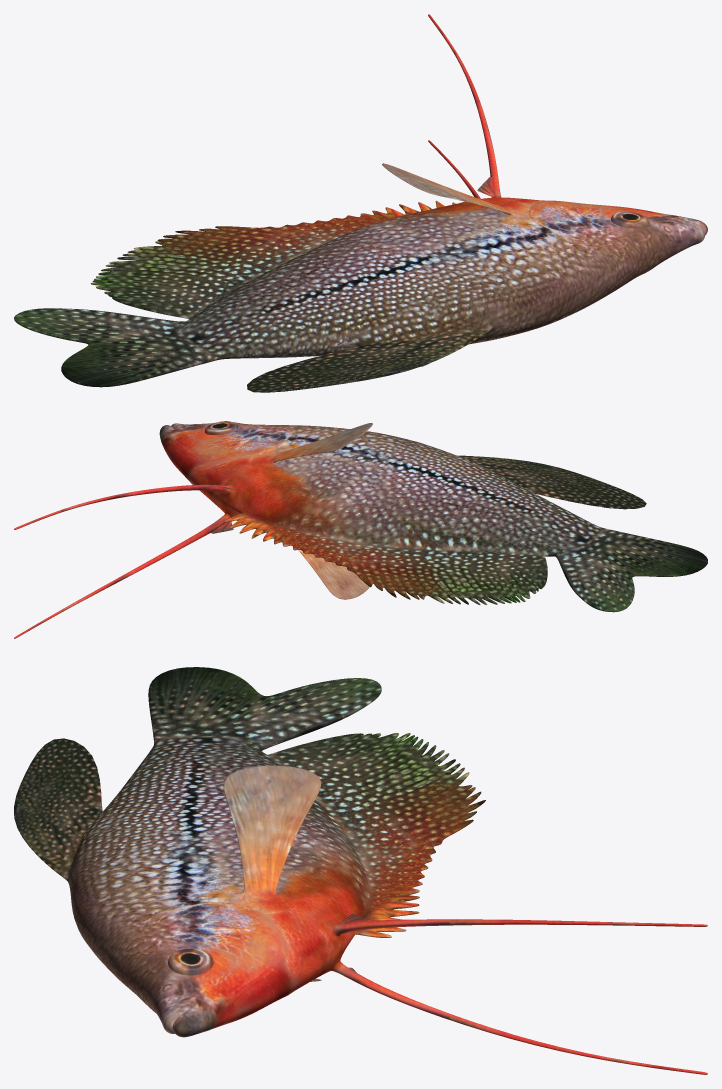
The model's file is Pearl_Gourami.obj.
The picture shows the model from 3 angles, top to bottom: view 1: azimuth 30°, elevation 25°; view 2: azimuth 150°, elevation 25°; view 3: azimuth 270°, elevation 25°; orthographic projection. The views are drawn at different scales.
Visible parts, largest first — view 1: Pearl_Gourami; view 2: Pearl_Gourami; view 3: Pearl_Gourami.
Boxes of the visible parts, x1,y1,x2,y2 form: Pearl_Gourami: [14, 14, 707, 392]; Pearl_Gourami: [14, 421, 707, 638]; Pearl_Gourami: [14, 667, 707, 1074].
Size of the model in its own units: 6.76 by 1.88 by 5.45.
Materials: 1 (1 with a texture image).
